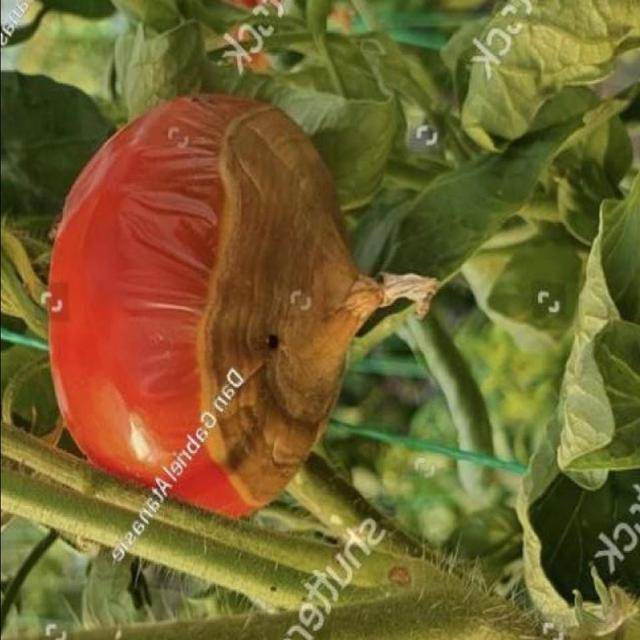Blossom End Rot Fruit: (140, 65, 262, 342)
